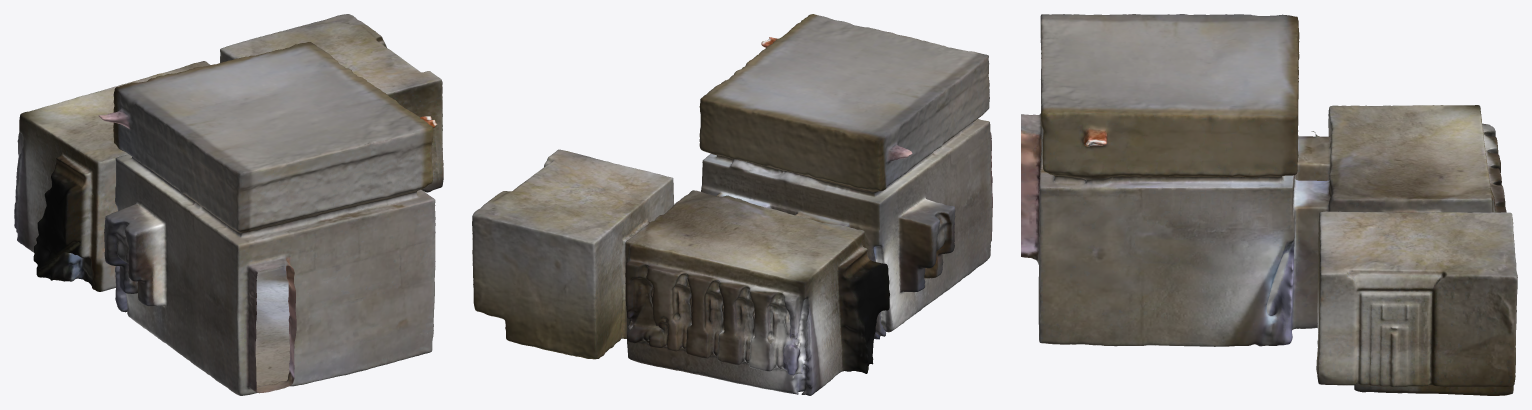
3 views of the same model, side by side, from view 1: azimuth 30°, elevation 25°; view 2: azimuth 150°, elevation 25°; view 3: azimuth 270°, elevation 25° (orthographic). The views are drawn at different scales.
Parts seen in each view (by area): view 1: EGY_001_M9_TombOfQar_LP; view 2: EGY_001_M9_TombOfQar_LP; view 3: EGY_001_M9_TombOfQar_LP.
Boxes of the visible parts, box(x1,y1,x2,y2) form: EGY_001_M9_TombOfQar_LP: box(14, 14, 443, 395); EGY_001_M9_TombOfQar_LP: box(472, 14, 992, 395); EGY_001_M9_TombOfQar_LP: box(1021, 14, 1517, 395).
Size of the model in its own units: 8.66 by 5 by 9.46.
Materials: 1 (1 with a texture image).
